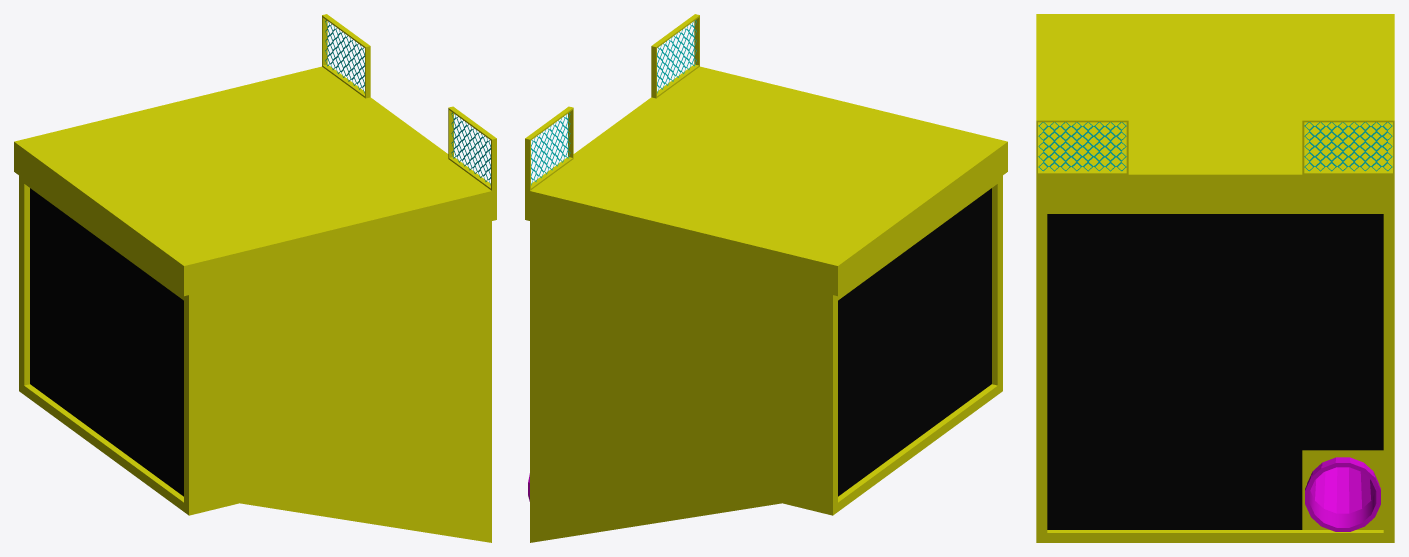
File: GooBuilding2.fbx
The picture shows the model from 3 angles, left to right: view 1: azimuth 30°, elevation 25°; view 2: azimuth 150°, elevation 25°; view 3: azimuth 270°, elevation 25°; orthographic projection. The views are drawn at different scales.
Visible parts, largest first — view 1: polySurface1; view 2: polySurface1; view 3: polySurface1.
Part boxes in pixels (box(x1,y1,x2,y2)): polySurface1: box(14, 14, 496, 542); polySurface1: box(525, 14, 1007, 542); polySurface1: box(1036, 14, 1394, 542).
Bounding box in the file's own units: 10.62 × 12.94 × 9.89.
